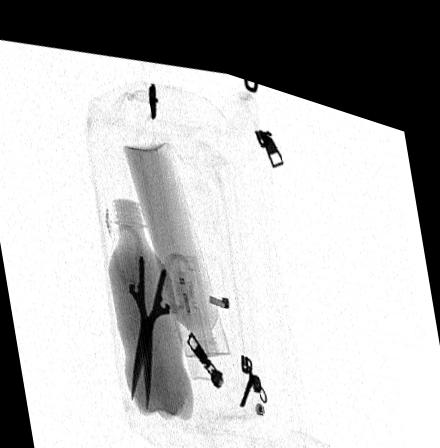Scissors: (107, 212, 198, 410)
